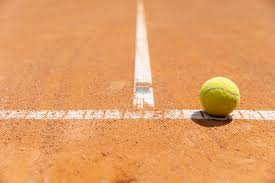tennis_ball: (199, 76, 240, 118)
